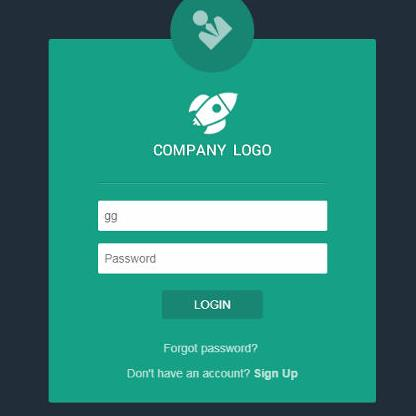button: (160, 289, 265, 320)
field: (96, 242, 330, 276), (97, 199, 330, 231)
